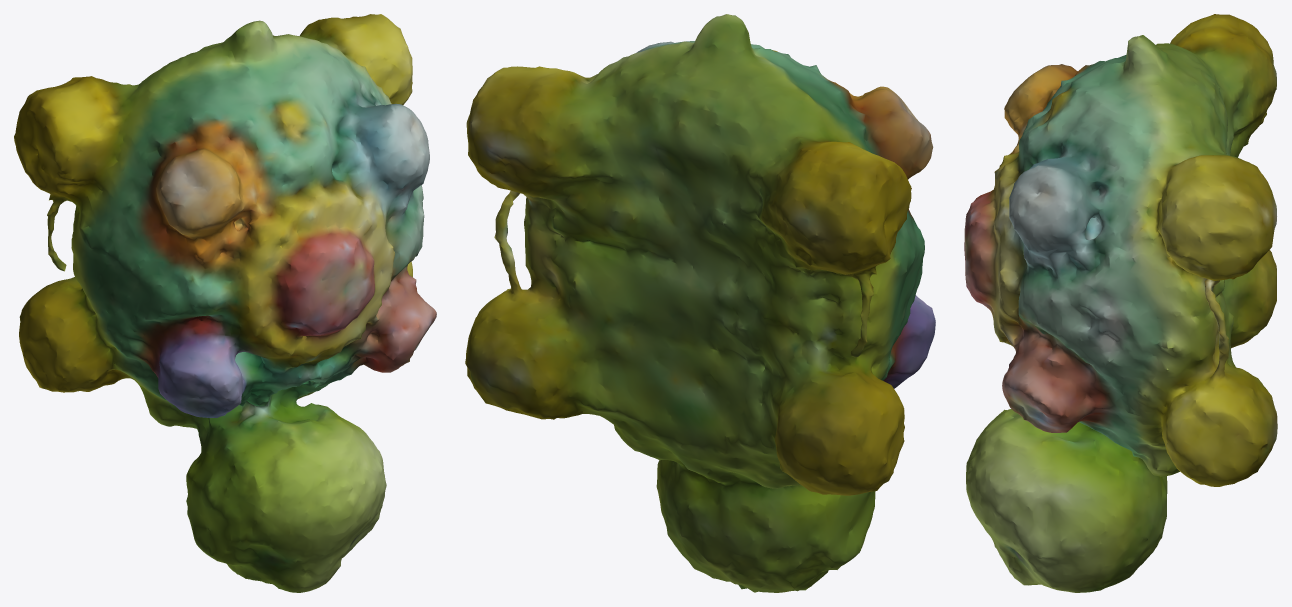
The model's file is turtle.glb.
3 renders of one model, left to right at view 1: azimuth 30°, elevation 25°; view 2: azimuth 150°, elevation 25°; view 3: azimuth 270°, elevation 25°, orthographic. The views are drawn at different scales.
Size of the model in its own units: 0.7284 by 0.9954 by 0.5179.
